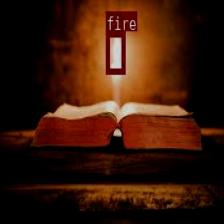fire: (105, 30, 125, 72)
